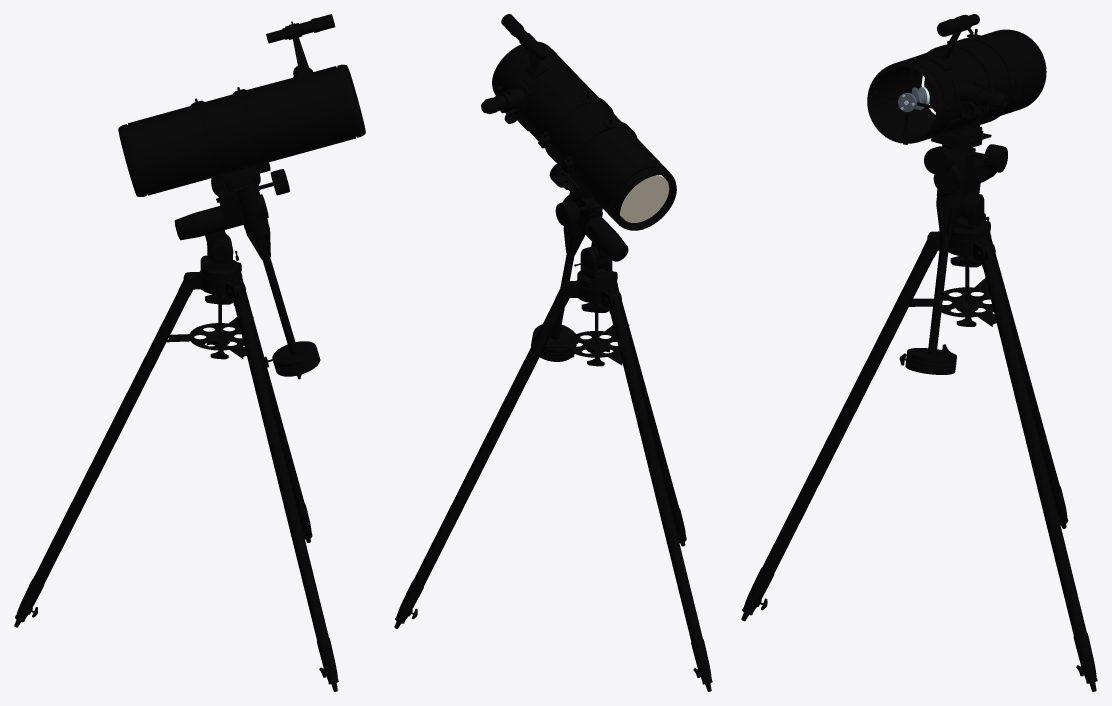
Rendered from telescope_newtonian_classified.glb.
The picture shows the model from 3 angles, left to right: view 1: azimuth 30°, elevation 25°; view 2: azimuth 150°, elevation 25°; view 3: azimuth 270°, elevation 25°; orthographic projection. The views are drawn at different scales.
Visible parts, largest first — view 1: OpticalTube_n2_p4_c0, Tripod_n108_p0_c0, Tripod_n112_p0_c0, OpticalTube_n2_p4_c4, EquatorialMount_n2_p5_c0, OpticalTube_n2_p4_c1, EquatorialMount_n0_p3_c0, AccessoryTray_n104_p0_c0, Tripod_n110_p0_c0, OpticalTube_n2_p4_c3, OpticalTube_n2_p7_c0, CounterweightsAndShaft_n2_p3_c4 (+7 smaller); view 2: Tripod_n112_p0_c0, Tripod_n110_p0_c0, OpticalTube_n2_p4_c0, OpticalTube_n2_p4_c4, OpticalTube_n2_p4_c1, EquatorialMount_n0_p3_c0, PrimaryParabolicMirror_modeled, EquatorialMount_n2_p5_c0, AccessoryTray_n104_p0_c0, Tripod_n108_p0_c0, RearMirrorCell_n2_p5_c10, TubeRingsAndSaddle_n2_p5_c1 (+8 smaller); view 3: Tripod_n110_p0_c0, Tripod_n108_p0_c0, OpticalTube_n2_p6_c0, OpticalTube_n2_p4_c0, EquatorialMount_n2_p5_c0, EquatorialMount_n0_p3_c0, AccessoryTray_n104_p0_c0, Tripod_n112_p0_c0, OpticalTube_n2_p4_c4, CounterweightsAndShaft_n2_p3_c4, OpticalTube_n2_p5_c9, OpticalTube_n2_p4_c1 (+9 smaller).
Boxes of the visible parts, x1,y1,x2,y2 form: OpticalTube_n2_p4_c0: (245,66,355,163); Tripod_n108_p0_c0: (234,303,328,640); Tripod_n112_p0_c0: (33,291,189,585); OpticalTube_n2_p4_c4: (128,106,203,166); EquatorialMount_n2_p5_c0: (193,186,270,259); OpticalTube_n2_p4_c1: (203,94,255,174); EquatorialMount_n0_p3_c0: (183,234,245,298); AccessoryTray_n104_p0_c0: (164,316,253,358); Tripod_n110_p0_c0: (240,278,305,510); OpticalTube_n2_p4_c3: (142,161,213,195); OpticalTube_n2_p7_c0: (138,148,207,179); CounterweightsAndShaft_n2_p3_c4: (262,258,298,354); Tripod_n112_p0_c0: (610,311,702,641); Tripod_n110_p0_c0: (412,299,565,587); OpticalTube_n2_p4_c0: (496,45,598,140); OpticalTube_n2_p4_c4: (577,127,666,196); OpticalTube_n2_p4_c1: (550,102,621,165); EquatorialMount_n0_p3_c0: (560,247,621,306); PrimaryParabolicMirror_modeled: (620,175,669,222); EquatorialMount_n2_p5_c0: (563,192,616,269); AccessoryTray_n104_p0_c0: (543,325,629,365); Tripod_n108_p0_c0: (616,287,679,514); RearMirrorCell_n2_p5_c10: (612,167,676,230); TubeRingsAndSaddle_n2_p5_c1: (561,121,637,188); Tripod_n110_p0_c0: (983,265,1086,635); Tripod_n108_p0_c0: (762,252,933,574); OpticalTube_n2_p6_c0: (868,67,936,140); OpticalTube_n2_p4_c0: (898,47,988,140); EquatorialMount_n2_p5_c0: (933,149,990,237); EquatorialMount_n0_p3_c0: (927,193,995,260); AccessoryTray_n104_p0_c0: (908,278,1000,326); Tripod_n112_p0_c0: (989,238,1060,493); OpticalTube_n2_p4_c4: (982,30,1043,76); CounterweightsAndShaft_n2_p3_c4: (927,237,949,354); OpticalTube_n2_p5_c9: (867,62,943,143); OpticalTube_n2_p4_c1: (962,41,1008,122).
Size of the model in its own units: 0.9471 by 1.72 by 0.8606.
